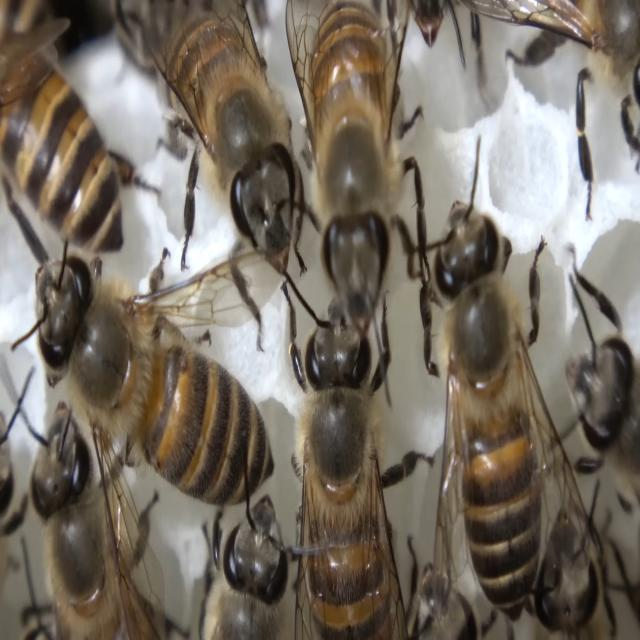Bees: (402, 199, 592, 626), (5, 233, 281, 516), (121, 0, 335, 352), (277, 282, 433, 640), (276, 0, 435, 327)
